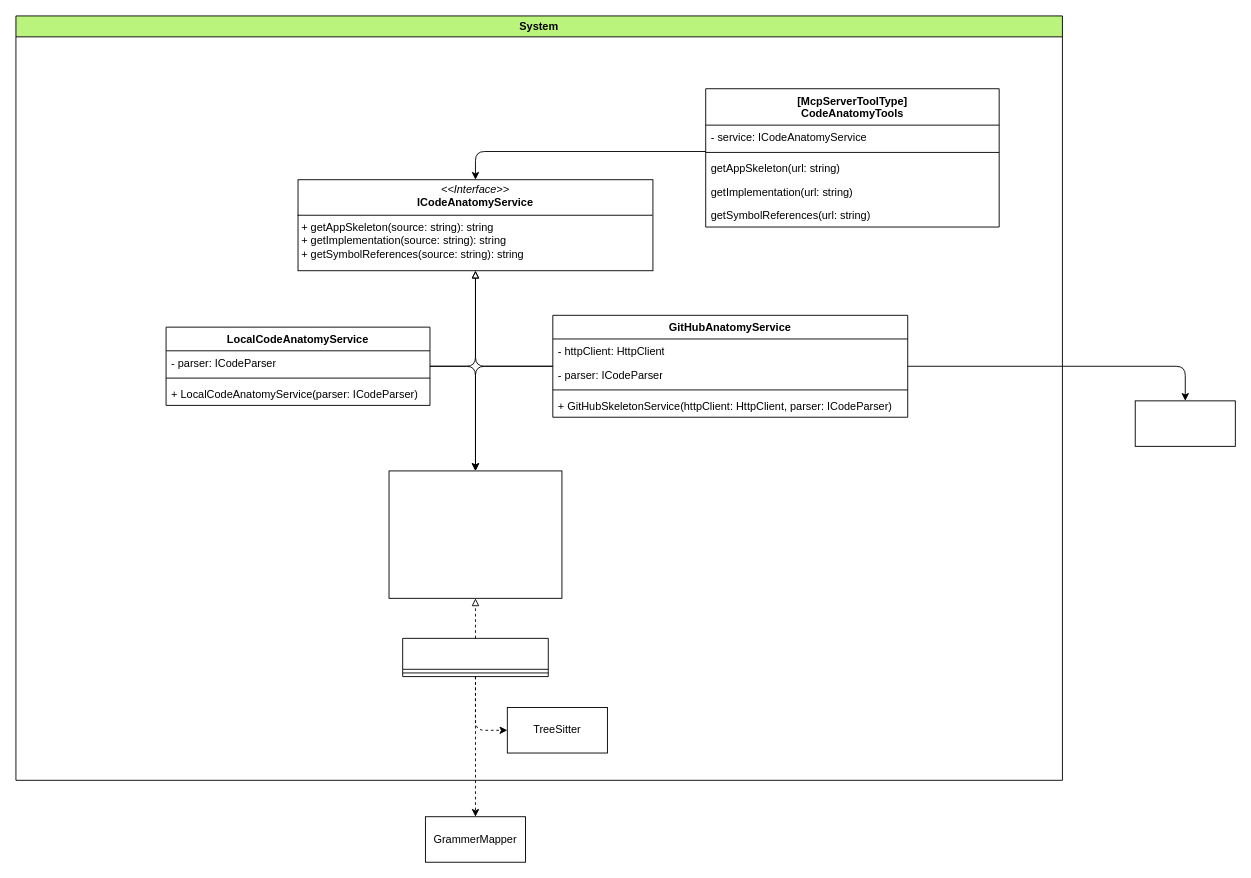
This 1251x878 diagram has some shape labels left out. Each missing label, with the centre of its shape:
<<Interface>> ICodeParser + parse(codeText: string): Node: (x=475, y=534)
GitHub: (x=1184, y=423)
TreeCodeParser: (x=475, y=657)
